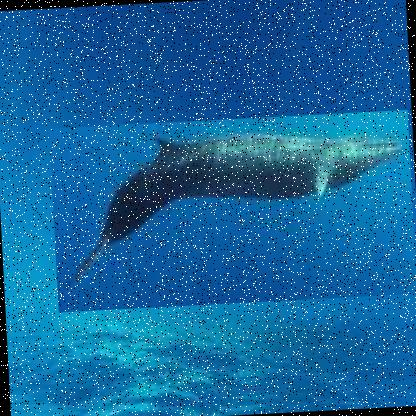blue_whale: (47, 108, 415, 313)
